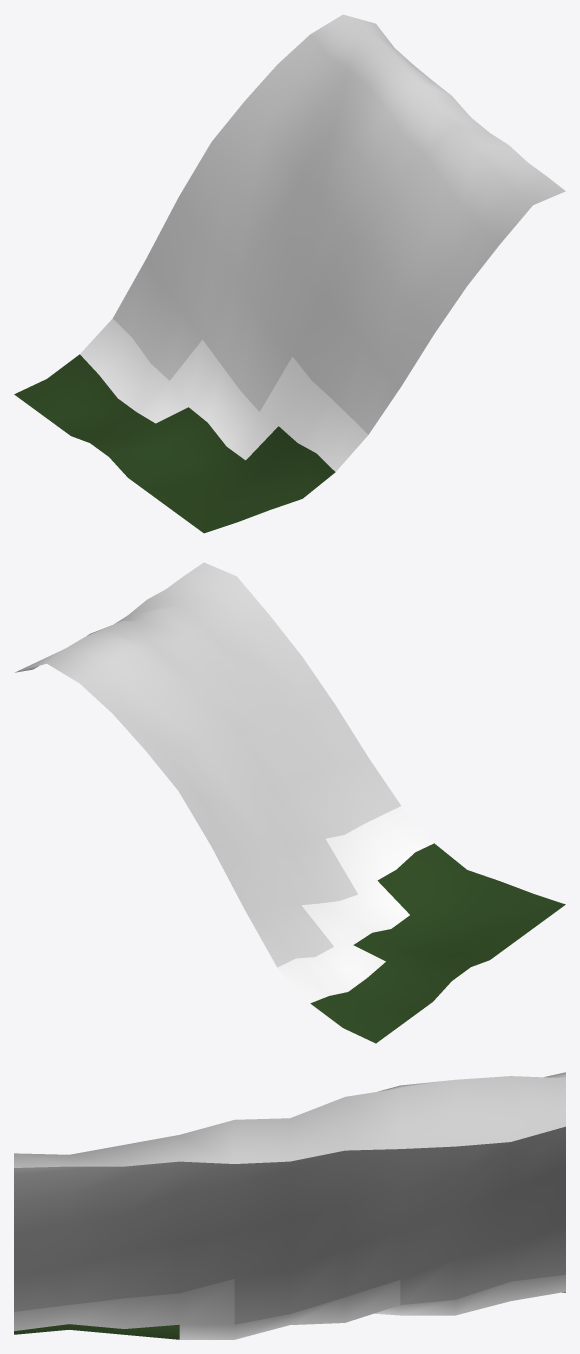
3 renders of one model, top to bottom at view 1: azimuth 30°, elevation 25°; view 2: azimuth 150°, elevation 25°; view 3: azimuth 270°, elevation 25°, orthographic. The views are drawn at different scales.
Parts seen in each view (by area): view 1: TerrainModel.083; view 2: TerrainModel.083; view 3: TerrainModel.083.
Part boxes in pixels (<box>): TerrainModel.083: <box>14,14,565,533</box>; TerrainModel.083: <box>15,562,565,1043</box>; TerrainModel.083: <box>14,1072,565,1339</box>.
Bounding box in the file's own units: 21569 × 17196 × 19608.
